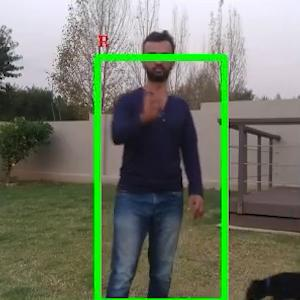takeoff-hand: (137, 78, 169, 121)
